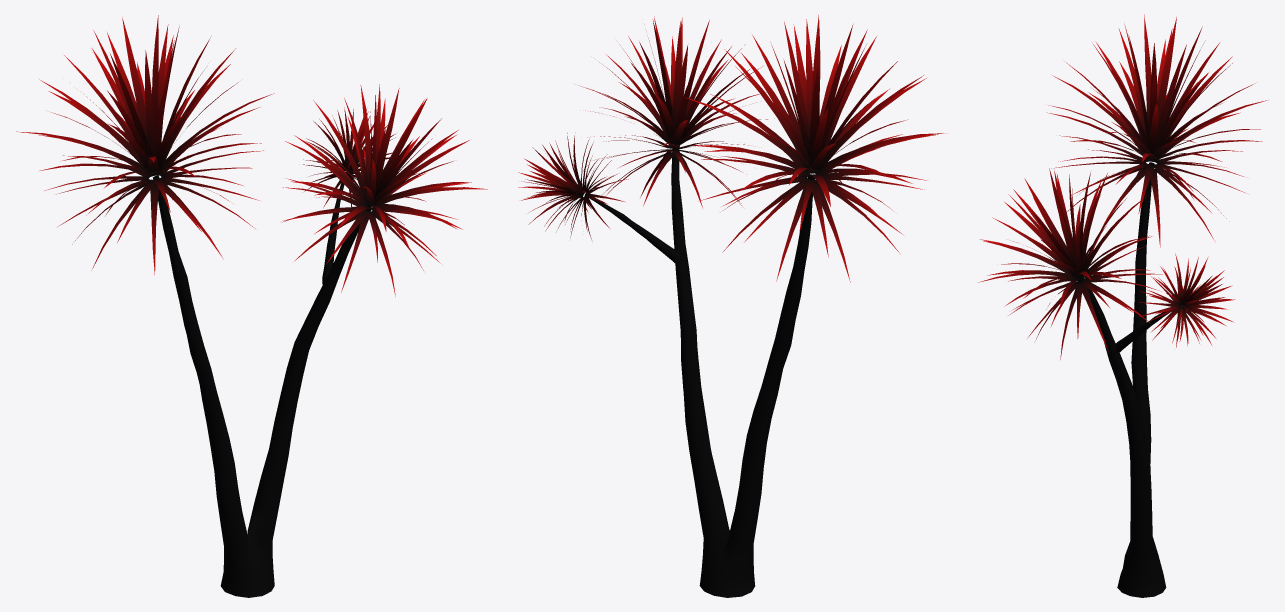
File: SM_CabbageTree.fbx
3 renders of one model, left to right at view 1: azimuth 30°, elevation 25°; view 2: azimuth 150°, elevation 25°; view 3: azimuth 270°, elevation 25°, orthographic. The views are drawn at different scales.
Parts seen in each view (by area): view 1: SM_CabbageTree; view 2: SM_CabbageTree; view 3: SM_CabbageTree.
Boxes of the visible parts, x1,y1,x2,y2 form: SM_CabbageTree: (16, 15, 487, 597); SM_CabbageTree: (518, 15, 946, 597); SM_CabbageTree: (978, 14, 1268, 597).
Bounding box in the file's own units: 97.68 × 139 × 71.61.
